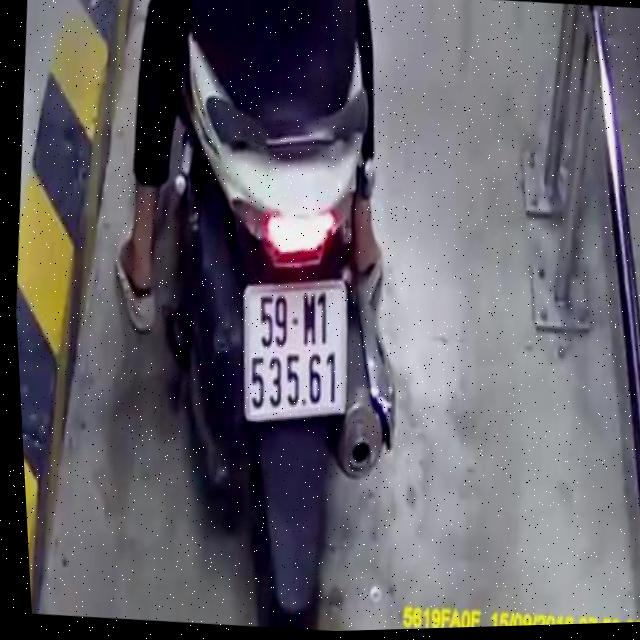motorcycle: (89, 0, 453, 637)
plate: (226, 270, 361, 427)
